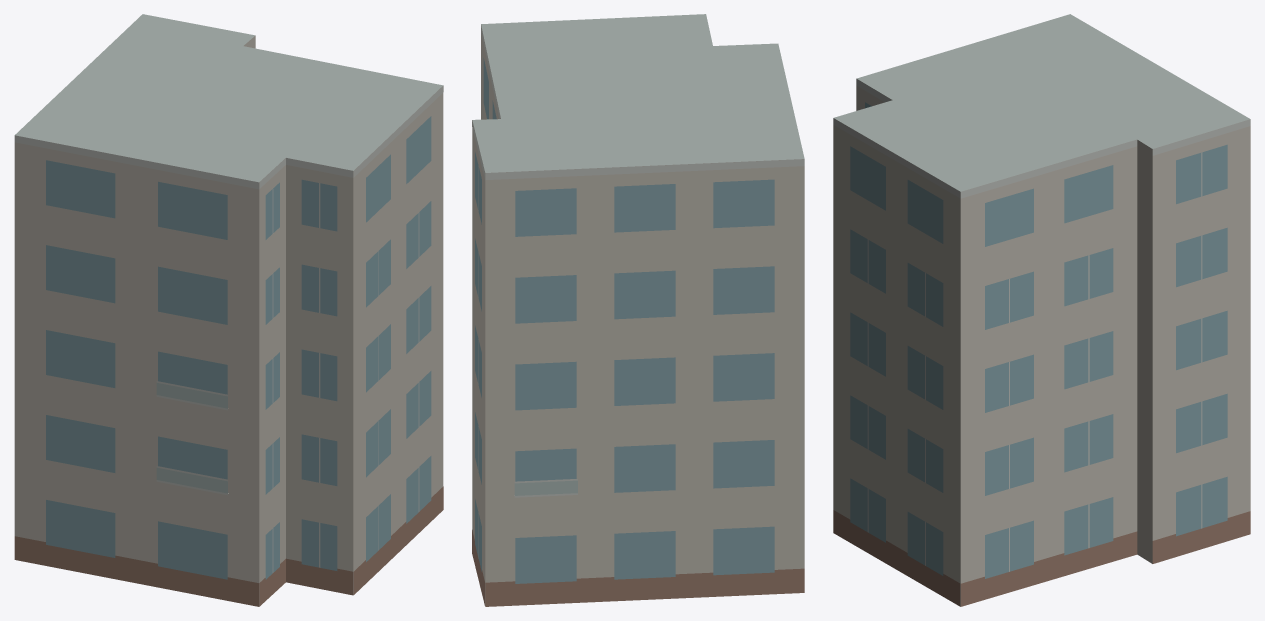
The model's file is survey-upis-32712881.glb.
3 renders of one model, left to right at view 1: azimuth 30°, elevation 25°; view 2: azimuth 150°, elevation 25°; view 3: azimuth 270°, elevation 25°, orthographic. The views are drawn at different scales.
Visible parts, largest first — view 1: survey-upis-32712881.tmp; view 2: survey-upis-32712881.tmp; view 3: survey-upis-32712881.tmp.
Part boxes in pixels (left/top/right/bottom): survey-upis-32712881.tmp: left=14, top=14, right=443, bottom=606; survey-upis-32712881.tmp: left=472, top=14, right=804, bottom=606; survey-upis-32712881.tmp: left=833, top=14, right=1250, bottom=606.
Size of the model in its own units: 13.61 by 14.8 by 13.5.
